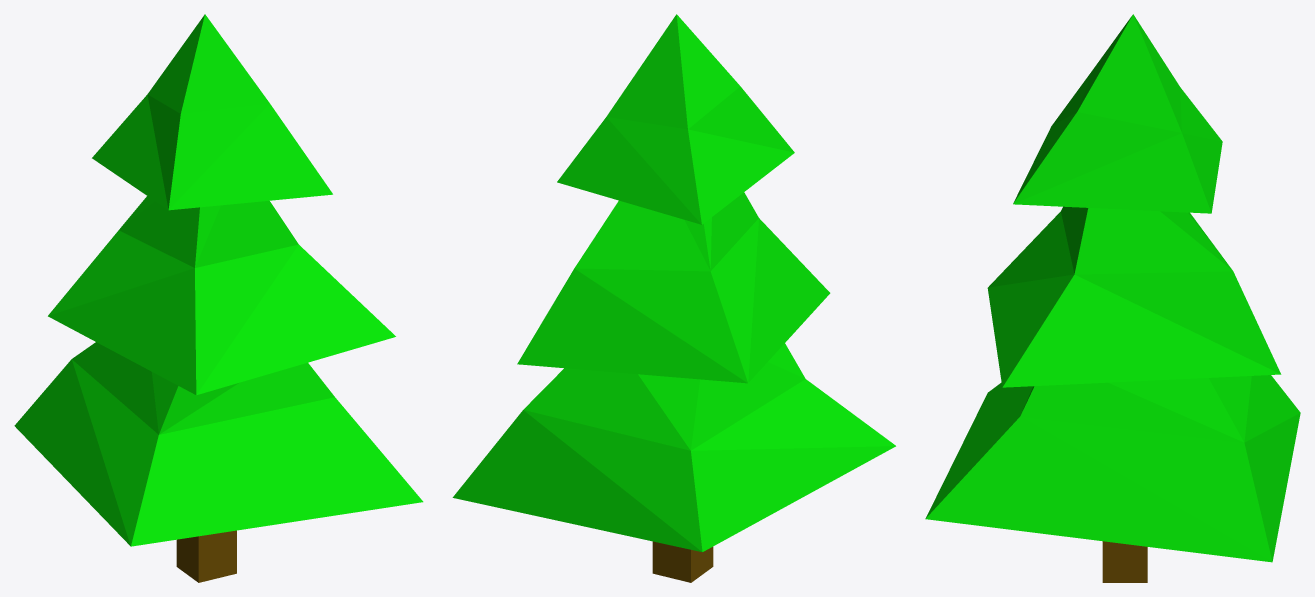
The model's file is p_tree_fir_1.fbx.
3 views of the same model, side by side, from view 1: azimuth 30°, elevation 25°; view 2: azimuth 150°, elevation 25°; view 3: azimuth 270°, elevation 25° (orthographic).
Parts seen in each view (by area): view 1: p_tree_fir_1; view 2: p_tree_fir_1; view 3: p_tree_fir_1.
Part boxes in pixels (bbox=[...]): p_tree_fir_1: bbox=[14, 14, 423, 582]; p_tree_fir_1: bbox=[452, 14, 895, 582]; p_tree_fir_1: bbox=[925, 14, 1300, 582].
Bounding box in the file's own units: 7.83 × 13.82 × 8.39.
